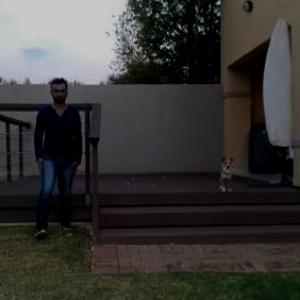follow: (31, 76, 80, 233)
